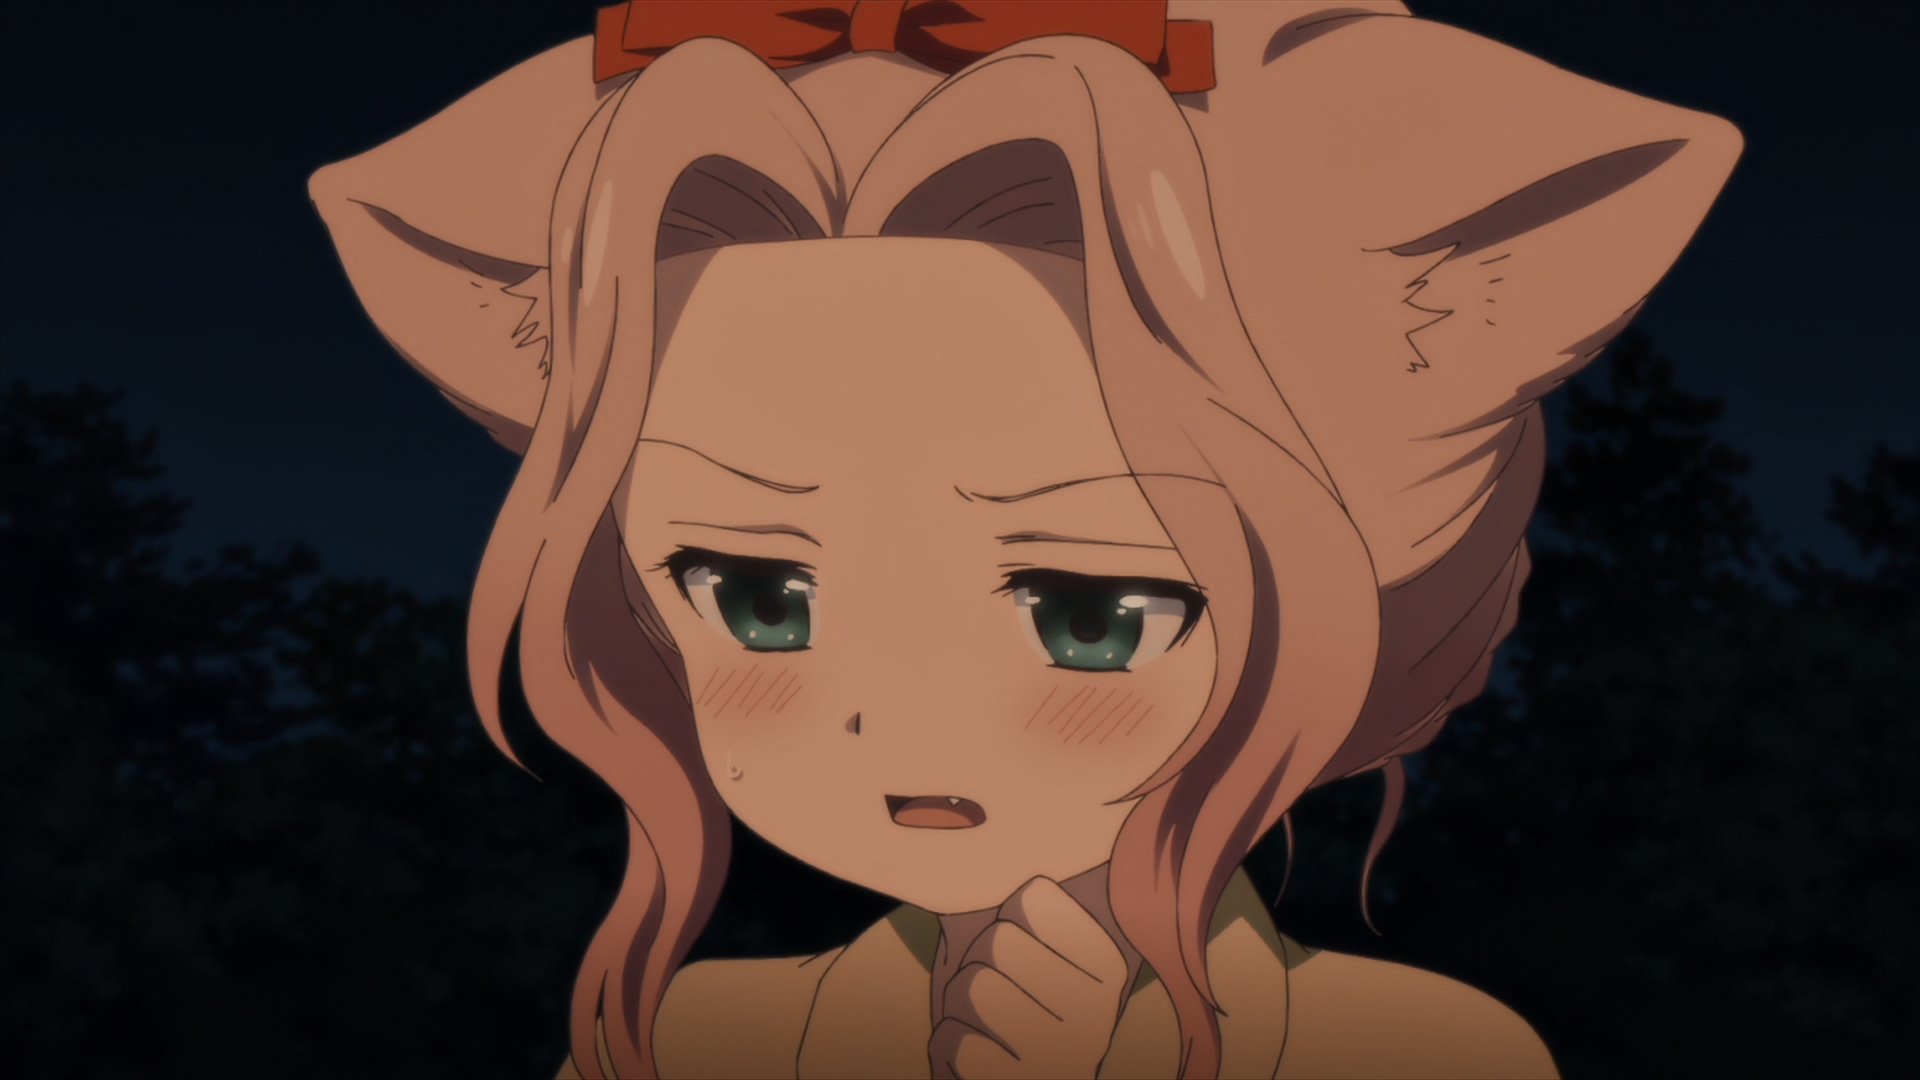莲: (309, 1, 1745, 1080)
